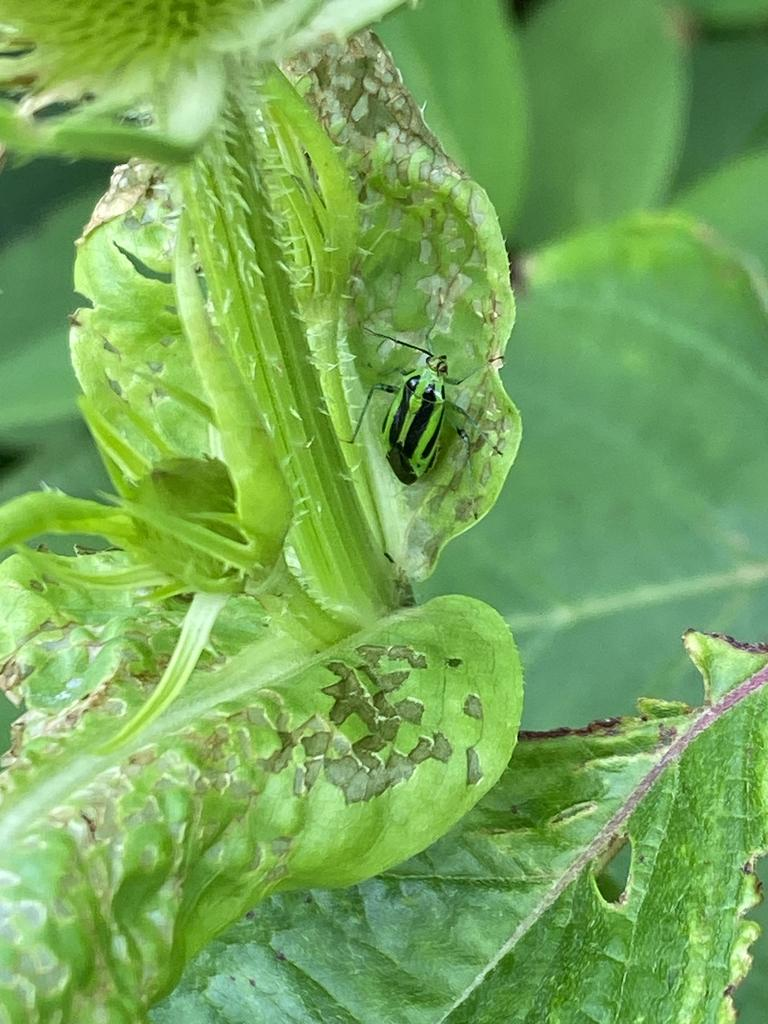plant_bugs: (314, 290, 523, 520)
